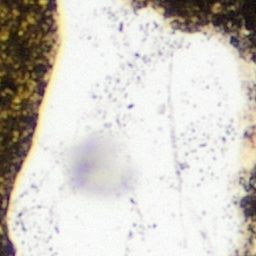cement_matrix: (0, 0, 54, 255), (138, 0, 255, 59), (244, 176, 255, 223), (254, 230, 255, 235)
gravel_crushed_stones: (3, 0, 255, 255)
